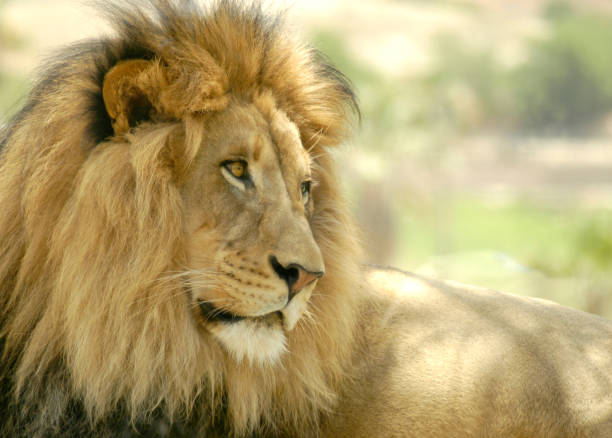lion: (1, 2, 374, 437)
